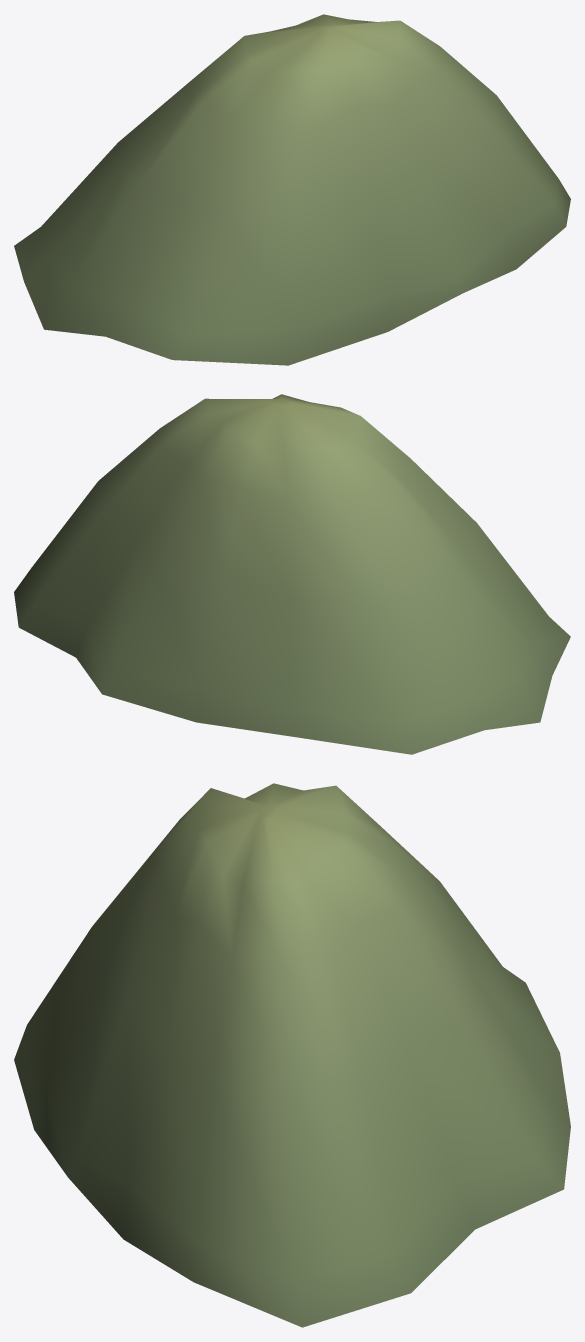
Rendered from valley_ridge_74.glb.
The picture shows the model from 3 angles, top to bottom: view 1: azimuth 30°, elevation 25°; view 2: azimuth 150°, elevation 25°; view 3: azimuth 270°, elevation 25°; orthographic projection. The views are drawn at different scales.
Parts seen in each view (by area): view 1: Ridge74; view 2: Ridge74; view 3: Ridge74.
Part boxes in pixels (x1,y1,x2,y2): Ridge74: (14, 14, 570, 365); Ridge74: (14, 394, 570, 754); Ridge74: (14, 783, 570, 1327).
Bounding box in the file's own units: 13.13 × 5.82 × 8.53.
